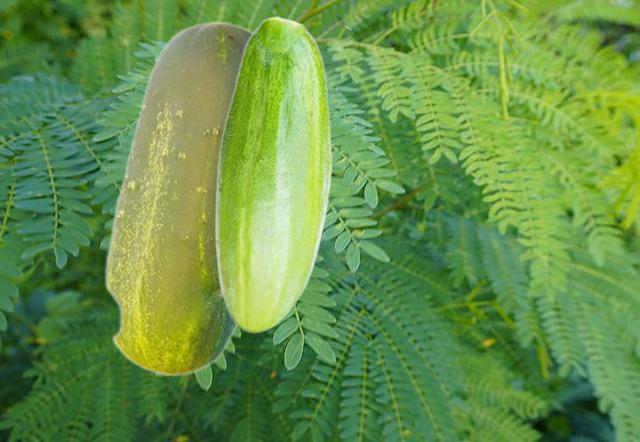cucumber: (103, 20, 254, 376), (214, 16, 331, 332)
